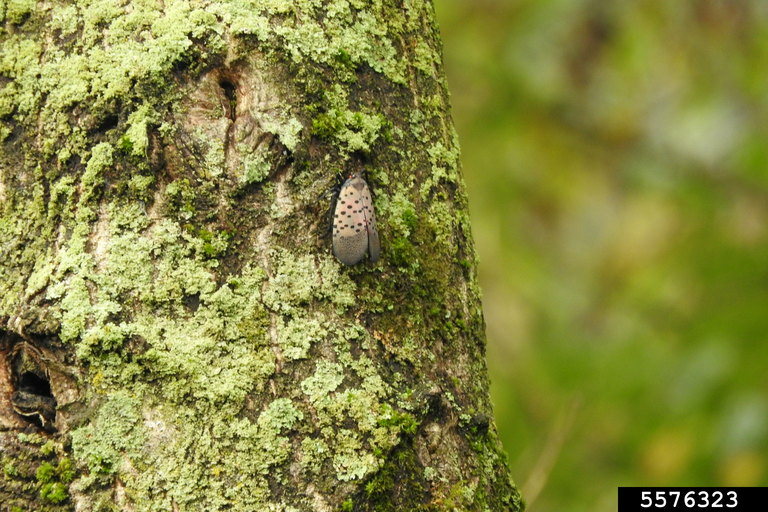adult: (332, 169, 380, 265)
